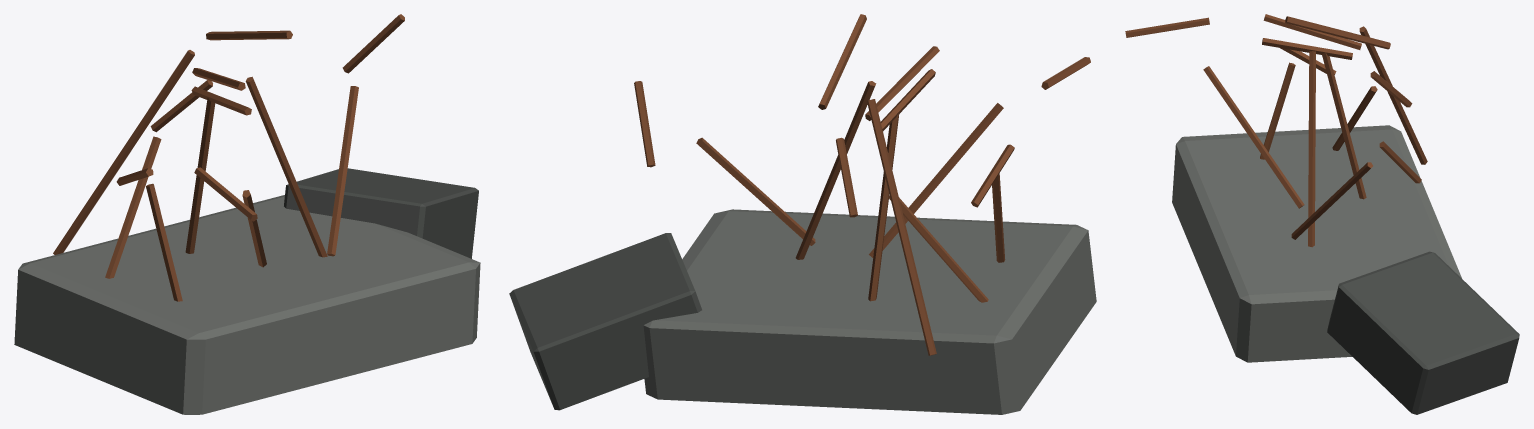
Rendered from Rebar_Chunk_A.fbx.
The picture shows the model from 3 angles, left to right: view 1: azimuth 30°, elevation 25°; view 2: azimuth 150°, elevation 25°; view 3: azimuth 270°, elevation 25°; orthographic projection. The views are drawn at different scales.
Parts seen in each view (by area): view 1: Rebar_Chunk_A; view 2: Rebar_Chunk_A; view 3: Rebar_Chunk_A.
Boxes of the visible parts, <box> form: Rebar_Chunk_A: <box>14,14,480,414</box>; Rebar_Chunk_A: <box>509,14,1096,414</box>; Rebar_Chunk_A: <box>1125,14,1519,414</box>.
Size of the model in its own units: 2.27 by 1.54 by 1.88.
